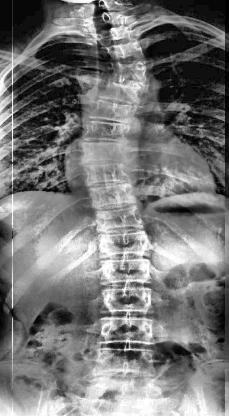Vertebrae: (92, 346, 159, 378), (95, 314, 157, 346), (96, 228, 156, 260), (98, 284, 156, 316), (98, 256, 156, 286), (86, 183, 140, 211), (93, 207, 149, 233), (87, 99, 141, 125), (81, 118, 133, 144), (79, 140, 129, 166), (99, 80, 148, 106), (82, 164, 134, 188), (104, 60, 154, 84), (102, 35, 146, 62)
